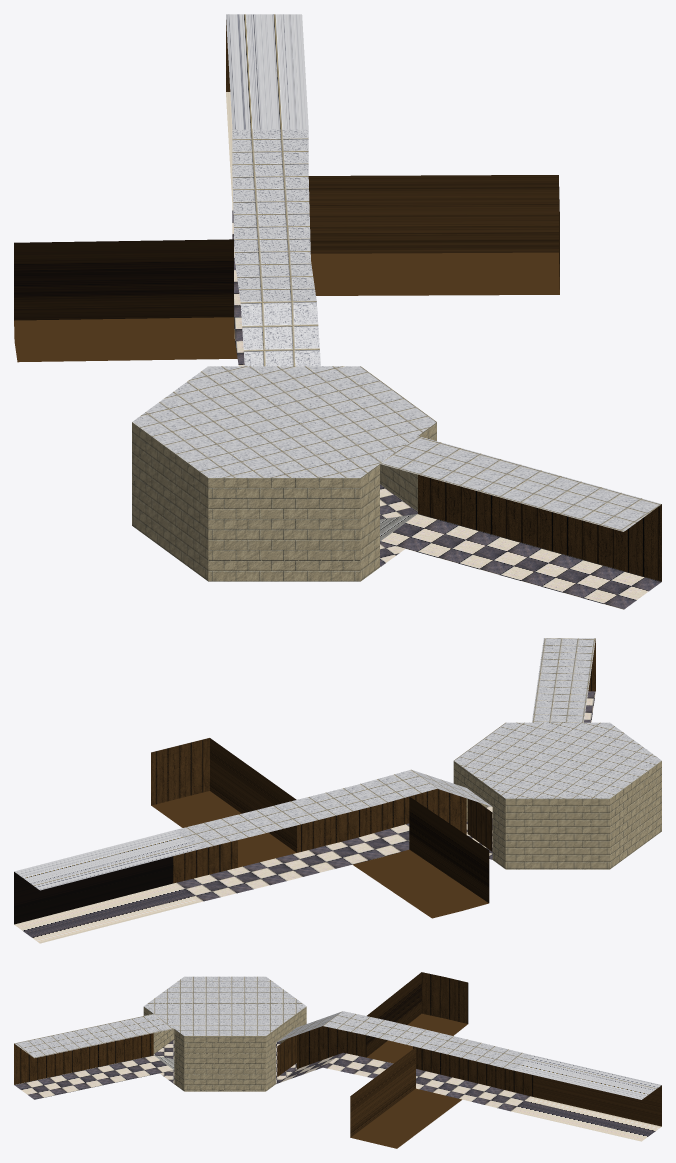
File: office.glb
The picture shows the model from 3 angles, top to bottom: view 1: azimuth 30°, elevation 25°; view 2: azimuth 150°, elevation 25°; view 3: azimuth 270°, elevation 25°; orthographic projection. The views are drawn at different scales.
Parts seen in each view (by area): view 1: LeftHallWalls, LeftHallCeiling, Walls, Ceiling, RightHallWalls, RightHallFloor, RightHallCeiling, LeftHallFloor, Floor; view 2: LeftHallWalls, Walls, Ceiling, LeftHallCeiling, LeftHallFloor, RightHallCeiling, Plane; view 3: LeftHallWalls, Ceiling, LeftHallCeiling, Walls, LeftHallFloor, RightHallWalls, RightHallFloor, RightHallCeiling, Plane, Floor.
Boxes of the visible parts, x1,y1,x2,y2 form: LeftHallWalls: (14,20,559,362); LeftHallCeiling: (226,14,320,366); Walls: (132,422,436,581); Ceiling: (132,366,436,477); RightHallWalls: (418,474,661,581); RightHallFloor: (380,514,661,609); RightHallCeiling: (380,436,661,531); LeftHallFloor: (226,92,244,366); Floor: (380,484,417,567); LeftHallWalls: (14,738,489,924); Walls: (453,761,661,869); Ceiling: (454,722,661,798); LeftHallCeiling: (14,769,491,890); LeftHallFloor: (14,823,491,943); RightHallCeiling: (532,638,595,722); Plane: (467,799,492,851); LeftHallWalls: (296,972,661,1148); Ceiling: (144,976,306,1036); LeftHallCeiling: (277,1011,661,1099); Walls: (143,1006,306,1091); LeftHallFloor: (277,1052,661,1141); RightHallWalls: (14,1033,153,1084); RightHallFloor: (14,1055,173,1099); RightHallCeiling: (14,1014,173,1058); Plane: (277,1035,296,1076); Floor: (153,1039,296,1083).
Bounding box in the file's own units: 58.22 × 12.89 × 111.
Materials: 6 (6 with a texture image).
